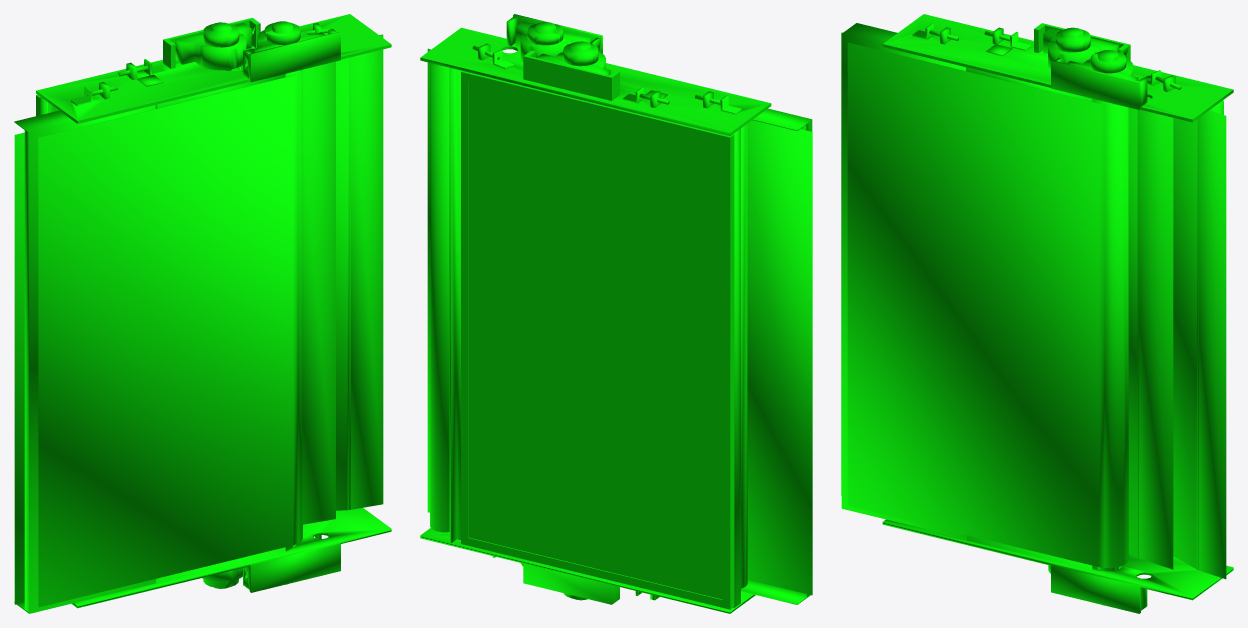
Rendered from HIT-08-60.fbx.
3 views of the same model, side by side, from view 1: azimuth 30°, elevation 25°; view 2: azimuth 150°, elevation 25°; view 3: azimuth 330°, elevation 25° (orthographic).
Visible parts, largest first — view 1: polySurface206; view 2: polySurface206; view 3: polySurface206.
Part boxes in pixels (x1,y1,x2,y2): polySurface206: (14,14,391,613); polySurface206: (420,14,812,613); polySurface206: (841,14,1233,613).
Size of the model in its own units: 50.71 by 71.25 by 10.
